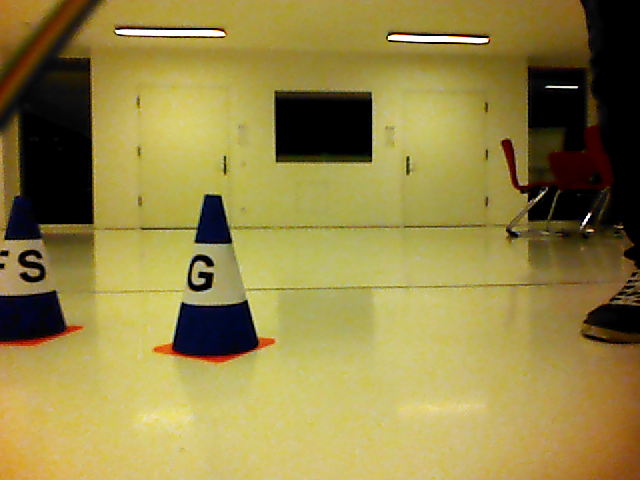bluecone: (173, 192, 260, 355), (1, 193, 69, 343)
